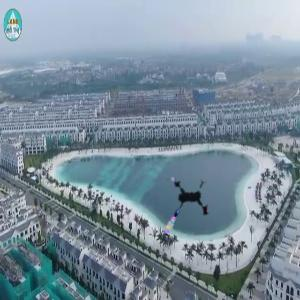drone: (155, 174, 226, 245)
